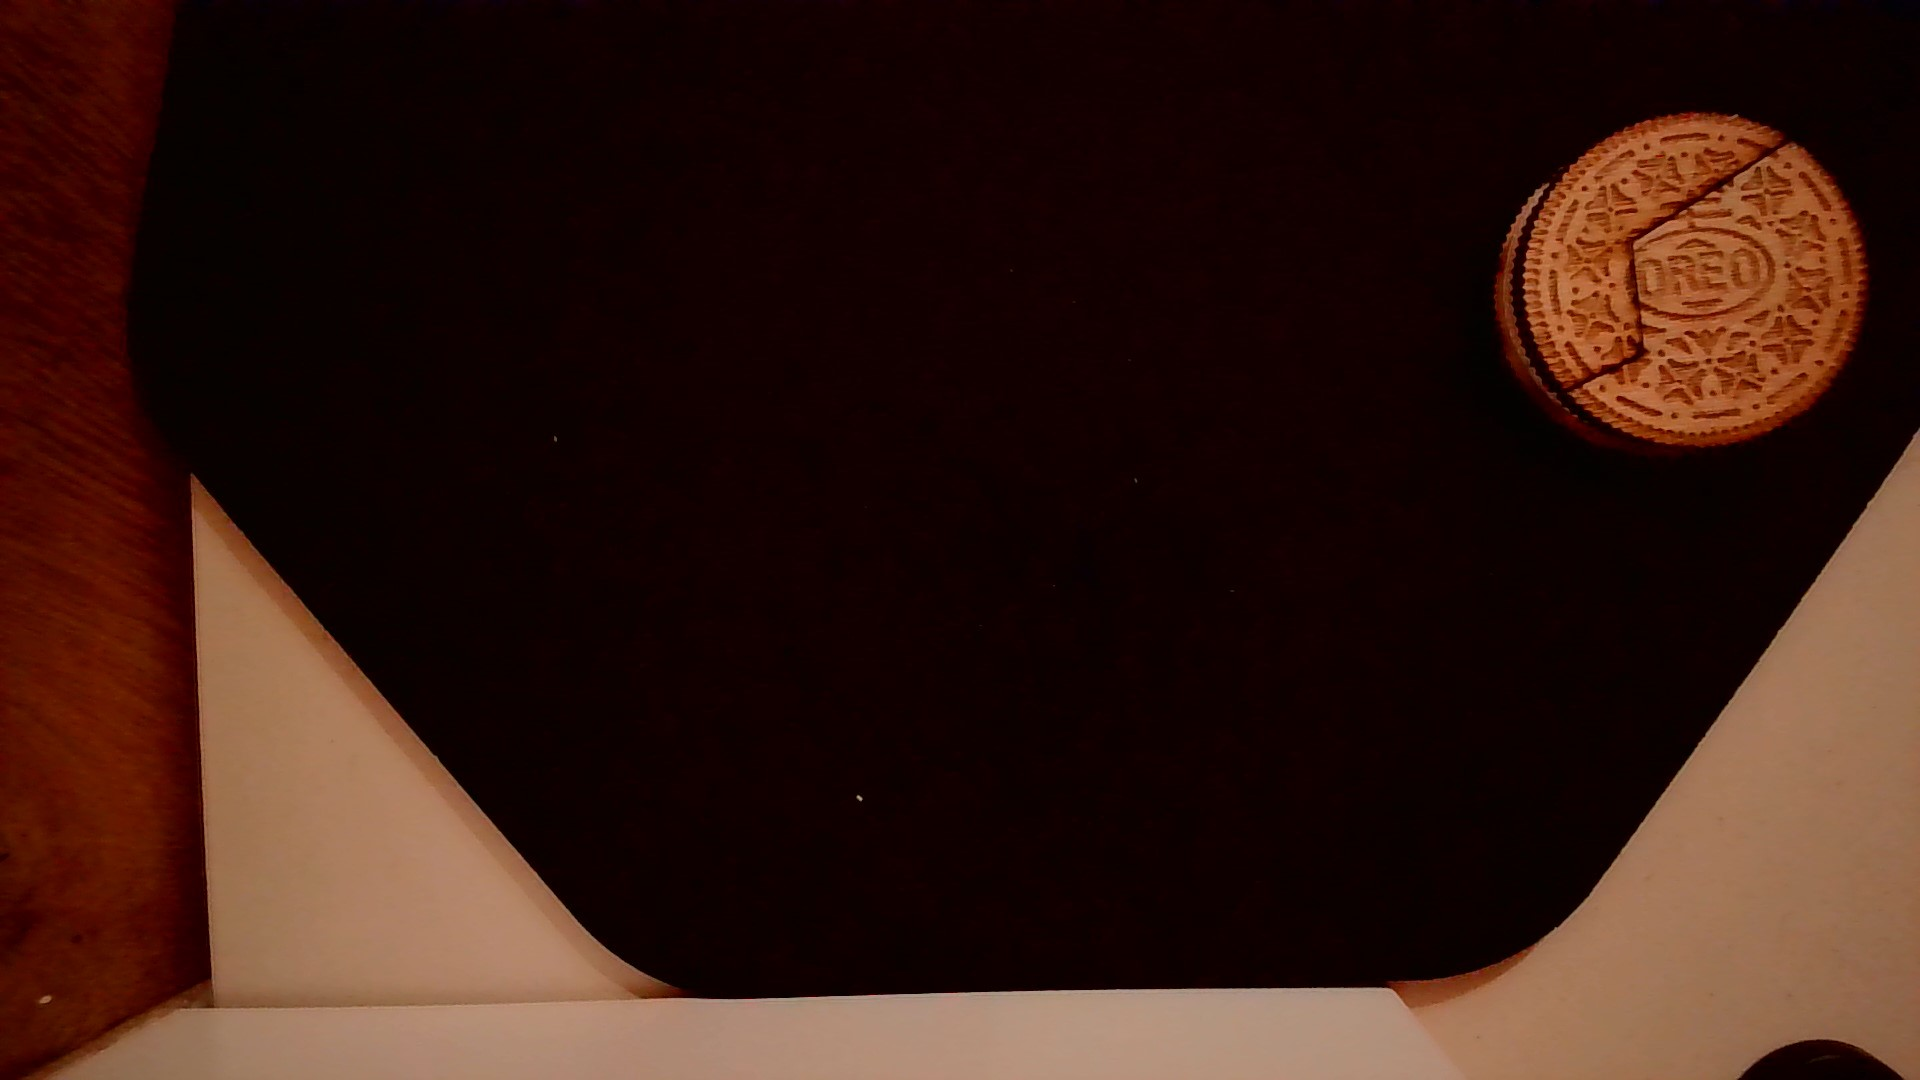Fissure: (1552, 127, 1799, 409)
Oréo: (1480, 98, 1873, 458)
